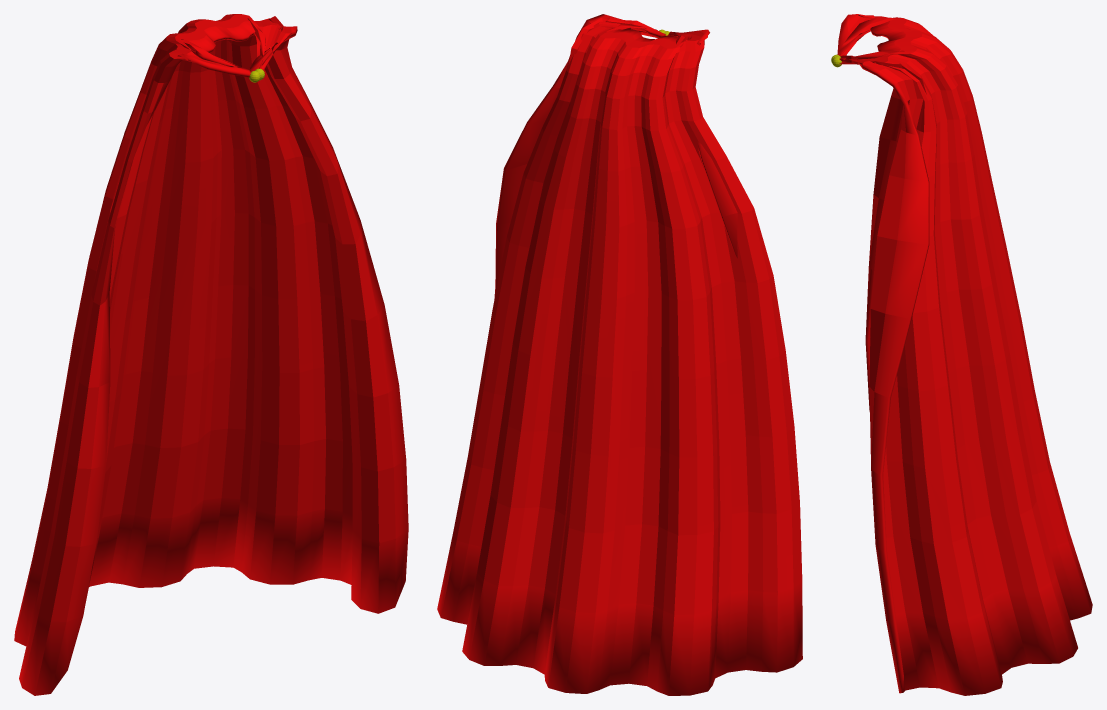
Rendered from cape.fbx.
3 views of the same model, side by side, from view 1: azimuth 30°, elevation 25°; view 2: azimuth 150°, elevation 25°; view 3: azimuth 270°, elevation 25° (orthographic). The views are drawn at different scales.
Visible parts, largest first — view 1: Circle.001; view 2: Circle.001; view 3: Circle.001.
Boxes of the visible parts, bbox=[...] form: Circle.001: bbox=[14, 14, 408, 695]; Circle.001: bbox=[437, 14, 802, 695]; Circle.001: bbox=[831, 14, 1092, 695].
Bounding box in the file's own units: 193 × 313 × 127.
